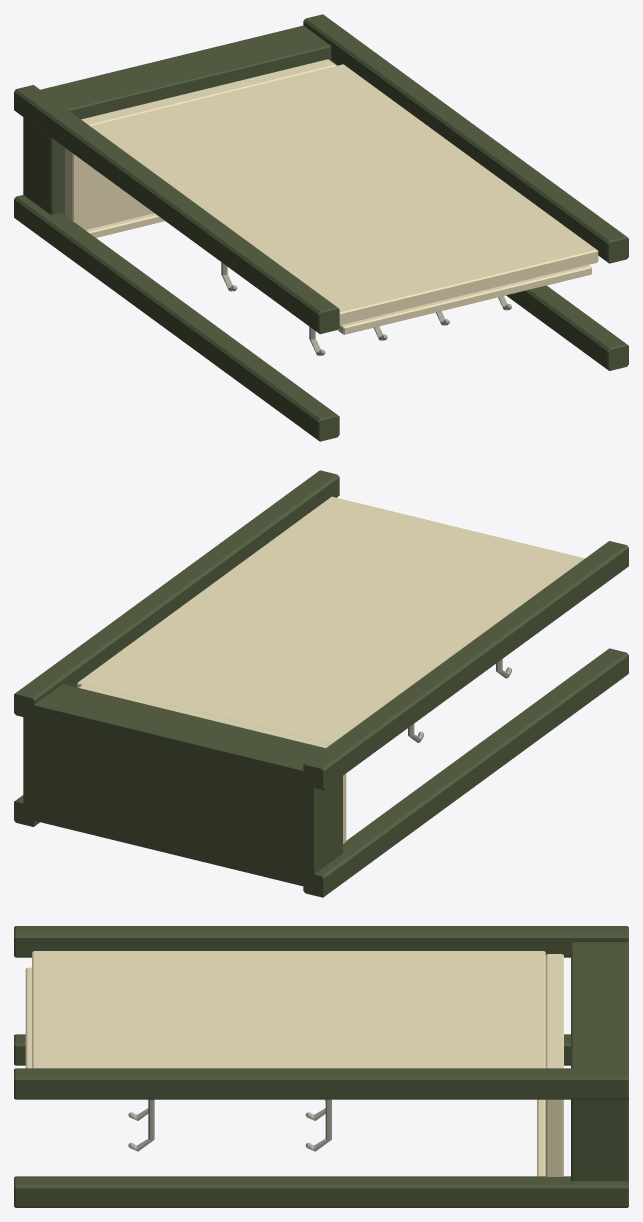
File: fixture_09_pegboard_display.glb
3 renders of one model, top to bottom at view 1: azimuth 30°, elevation 25°; view 2: azimuth 150°, elevation 25°; view 3: azimuth 270°, elevation 25°, orthographic.
Visible parts, largest first — view 1: fixture_09_pegboard_display; view 2: fixture_09_pegboard_display; view 3: fixture_09_pegboard_display.
Boxes of the visible parts, x1,y1,x2,y2 form: fixture_09_pegboard_display: (14, 14, 628, 441); fixture_09_pegboard_display: (14, 470, 628, 897); fixture_09_pegboard_display: (14, 926, 628, 1207).
Size of what is drawn, in the model's own units: 1 by 0.4 by 1.7.
